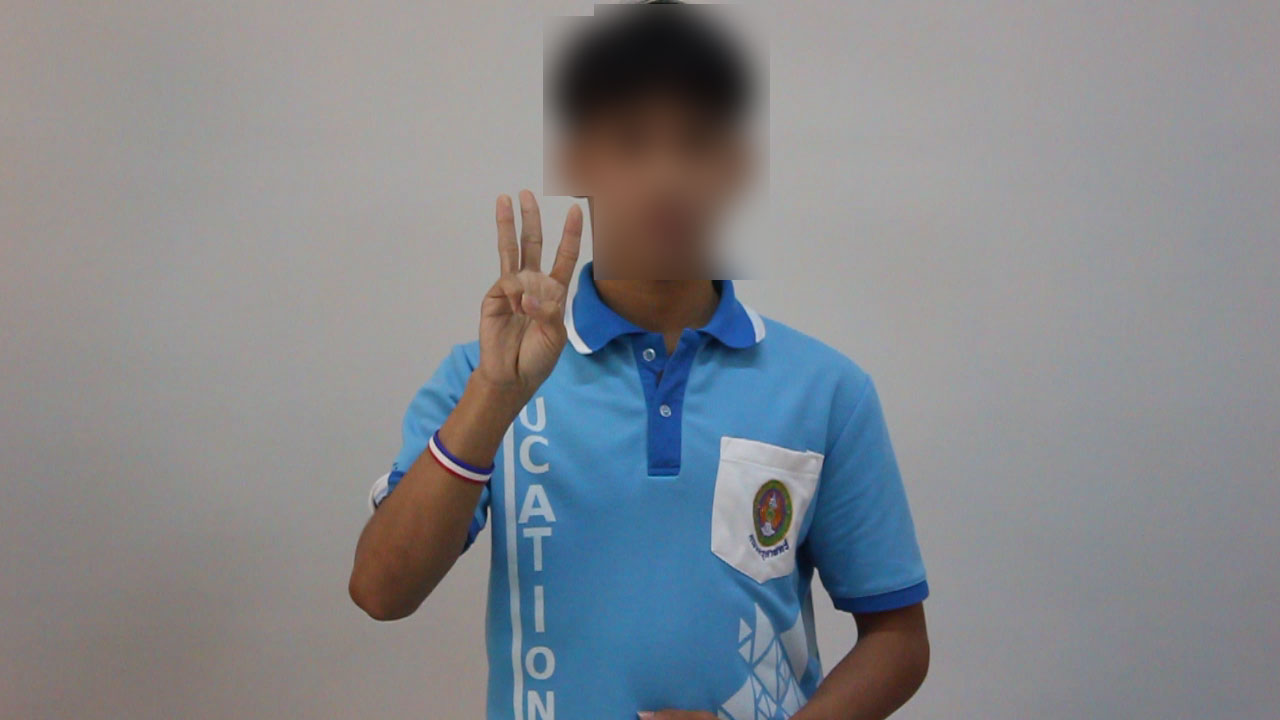wor: (468, 183, 589, 402)
